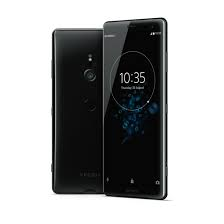sony: (100, 12, 169, 195)
